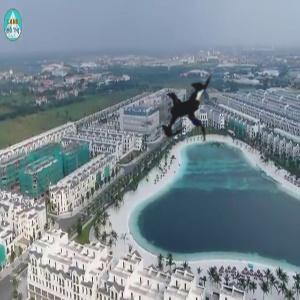drone: (127, 45, 257, 175)
